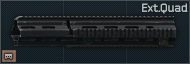HK 416A5 Extended Quad Rail handguard: (0, 0, 190, 64)
